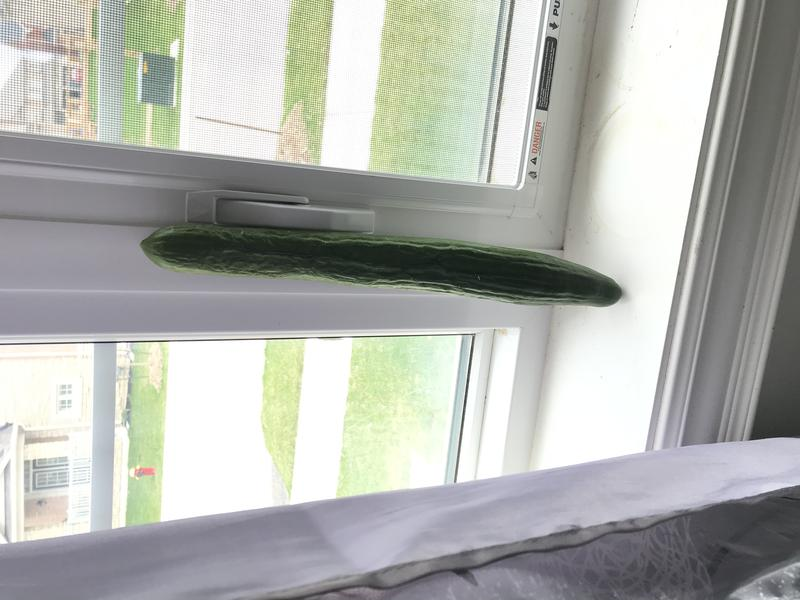cucumber: (123, 211, 634, 320)
